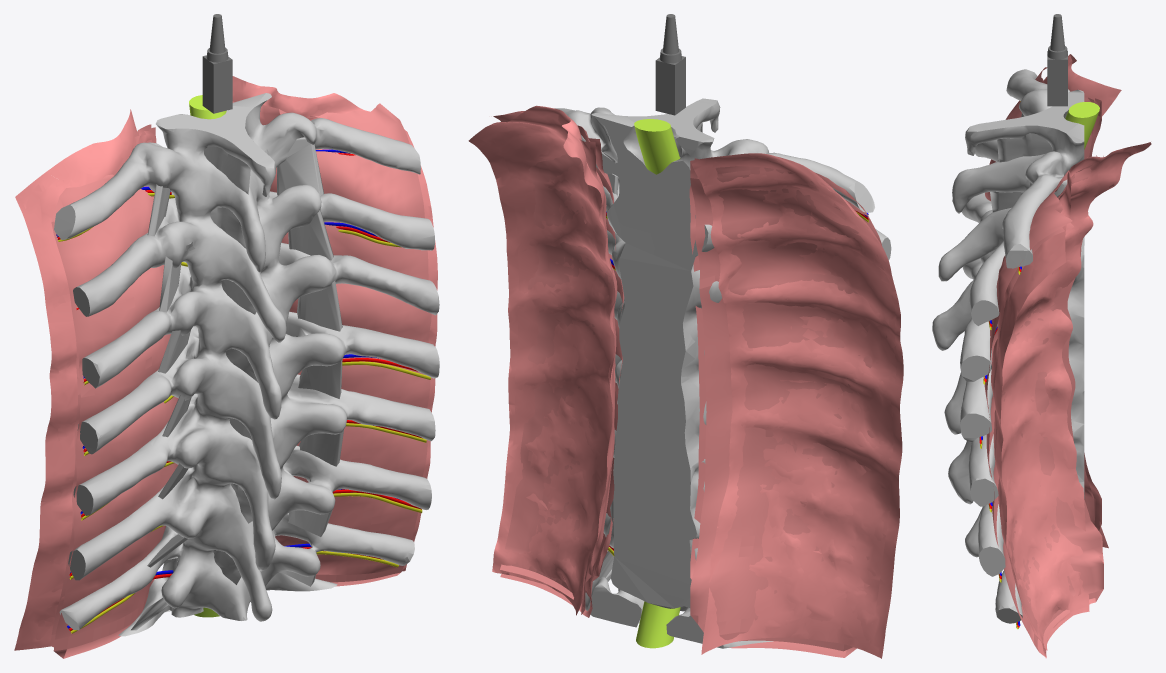
Rendered from RA Thoracic Anatomy V3.fbx.
3 views of the same model, side by side, from view 1: azimuth 30°, elevation 25°; view 2: azimuth 150°, elevation 25°; view 3: azimuth 270°, elevation 25° (orthographic). The views are drawn at different scales.
Parts seen in each view (by area): view 1: Skeleton, Lung Right RAISED 3mm, Lung Left RAISED 3mm, Lungs_2, Lungs_3, Sensor, 1R_SCTL, 3R_SCTL, Lungs Left Origional, 2R_SCTL, Lung Left NORMAL, 4R_SCTL (+7 smaller); view 2: Skeleton, Lungs Left Origional, Lung Left NORMAL, Lungs Right Origional, Lungs_2, Lungs_3, Lung Right NORMAL, Lung Left RAISED 3mm, Dura DIFFICULT, Lung Right RAISED 3mm, Sensor; view 3: Skeleton, Lungs Right Origional, Lungs_3, Lung Right NORMAL, Lung Right RAISED 3mm, Sensor, Lungs_2, 1LF, Lung Left RAISED 3mm, Dura DIFFICULT, Lung Left NORMAL, 2LF.
Part boxes in pixels (x1,y1,x2,y2): Skeleton: (54,93,439,636); Lung Right RAISED 3mm: (260,103,431,586); Lung Left RAISED 3mm: (51,127,178,658); Lungs_2: (14,109,136,650); Lungs_3: (232,76,437,571); Sensor: (202,14,232,113); 1R_SCTL: (277,137,323,195); 3R_SCTL: (297,280,342,331); Lungs Left Origional: (19,167,91,648); 2R_SCTL: (288,209,333,260); Lung Left NORMAL: (50,124,151,647); 4R_SCTL: (298,359,342,398); Skeleton: (554,98,891,648); Lungs Left Origional: (701,157,896,654); Lung Left NORMAL: (690,162,874,651); Lungs Right Origional: (483,119,615,611); Lungs_2: (690,153,903,658); Lungs_3: (468,105,617,615); Lung Right NORMAL: (491,122,616,614); Lung Left RAISED 3mm: (689,158,881,657); Dura DIFFICULT: (634,119,680,648); Lung Right RAISED 3mm: (493,111,624,617); Sensor: (655,14,685,115); Skeleton: (932,69,1084,623); Lungs Right Origional: (992,159,1097,639); Lungs_3: (991,142,1151,658); Lung Right NORMAL: (993,156,1103,650); Lung Right RAISED 3mm: (984,155,1096,656); Sensor: (1047,14,1067,106); Lungs_2: (1043,54,1121,546); 1LF: (997,133,1052,162); Lung Left RAISED 3mm: (985,67,1095,524); Dura DIFFICULT: (1065,102,1099,149); Lung Left NORMAL: (1044,77,1101,530); 2LF: (990,191,1022,212).
Bounding box in the file's own units: 169 × 245 × 85.35.
